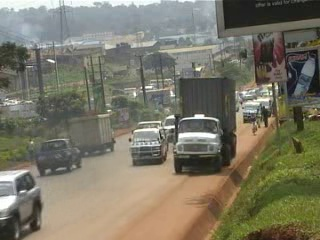Car: (0, 166, 48, 239), (158, 112, 178, 142)
